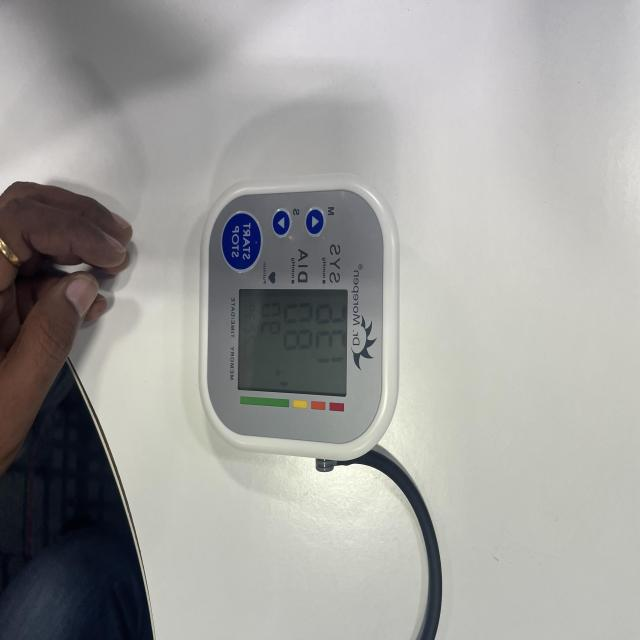bp: (199, 186, 402, 469)
